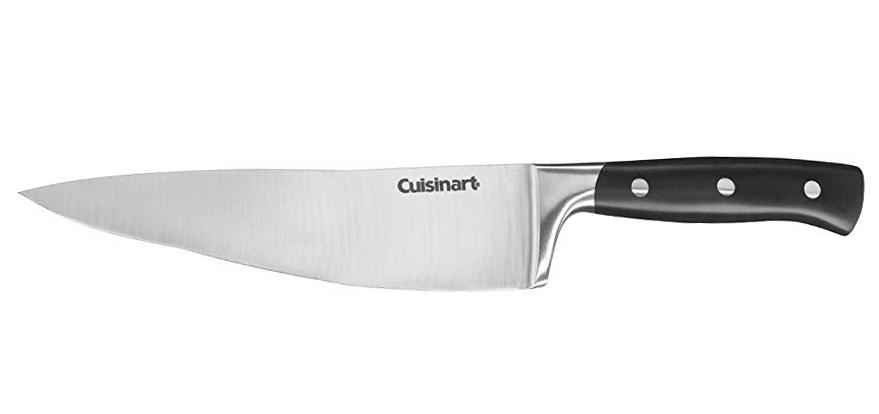knife: (19, 154, 867, 288)
